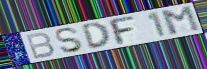1: (147, 10, 167, 39)
B: (24, 31, 57, 61)
D: (80, 21, 112, 50)
F: (106, 15, 137, 47)
M: (159, 5, 204, 37)
S: (54, 27, 85, 54)
